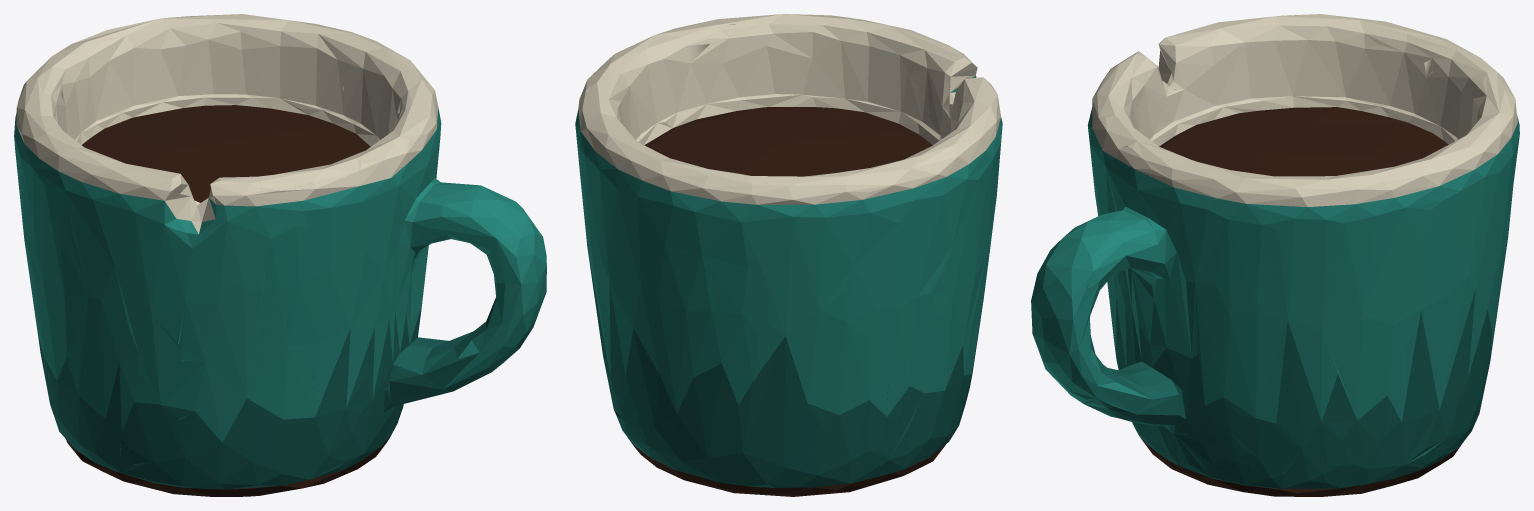
The model's file is mug.glb.
3 views of the same model, side by side, from view 1: azimuth 30°, elevation 25°; view 2: azimuth 150°, elevation 25°; view 3: azimuth 270°, elevation 25° (orthographic).
Parts seen in each view (by area): view 1: mug; view 2: mug; view 3: mug.
Part boxes in pixels (box(x1,y1,x2,y2)): mug: box(14, 14, 546, 496); mug: box(575, 14, 1002, 496); mug: box(1031, 14, 1519, 496).
Bounding box in the file's own units: 0.1105 × 0.091 × 0.12.
